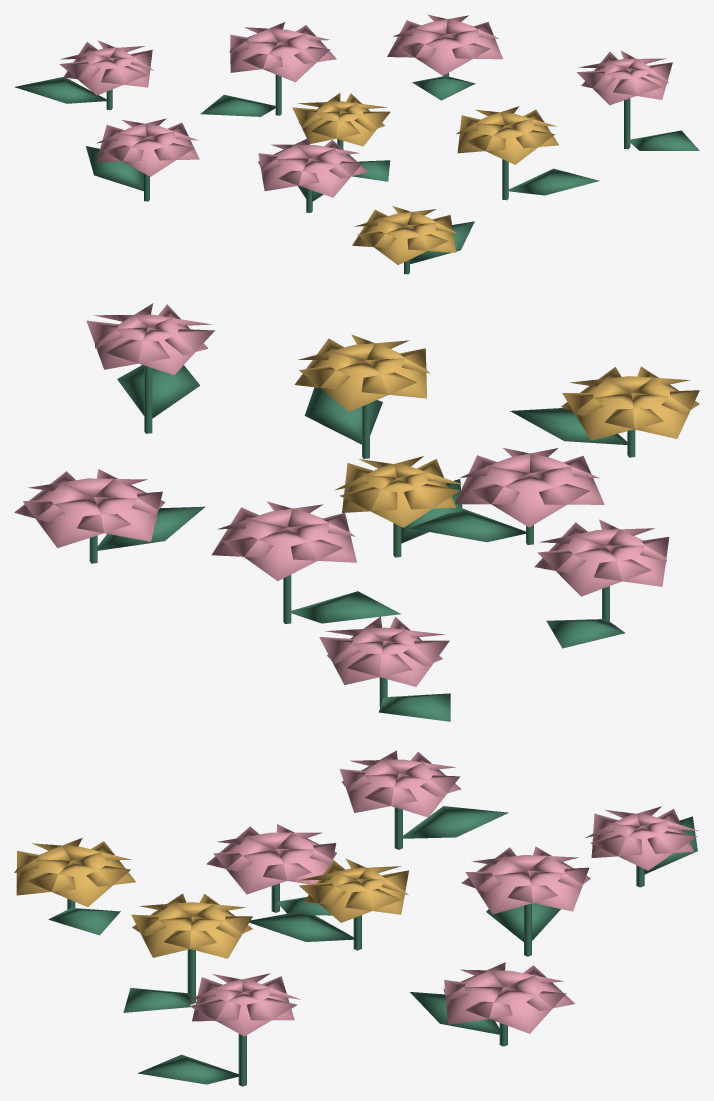
File: flower-carpet.glb
The picture shows the model from 3 angles, top to bottom: view 1: azimuth 30°, elevation 25°; view 2: azimuth 150°, elevation 25°; view 3: azimuth 270°, elevation 25°; orthographic projection. The views are drawn at different scales.
Parts seen in each view (by area): view 1: Vesper / flower-carpet; view 2: Vesper / flower-carpet; view 3: Vesper / flower-carpet.
Boxes of the visible parts, x1,y1,x2,y2 form: Vesper / flower-carpet: (14,14,699,274); Vesper / flower-carpet: (14,303,699,721); Vesper / flower-carpet: (14,750,698,1086).
Bounding box in the file's own units: 2.64 × 0.4044 × 2.65.
